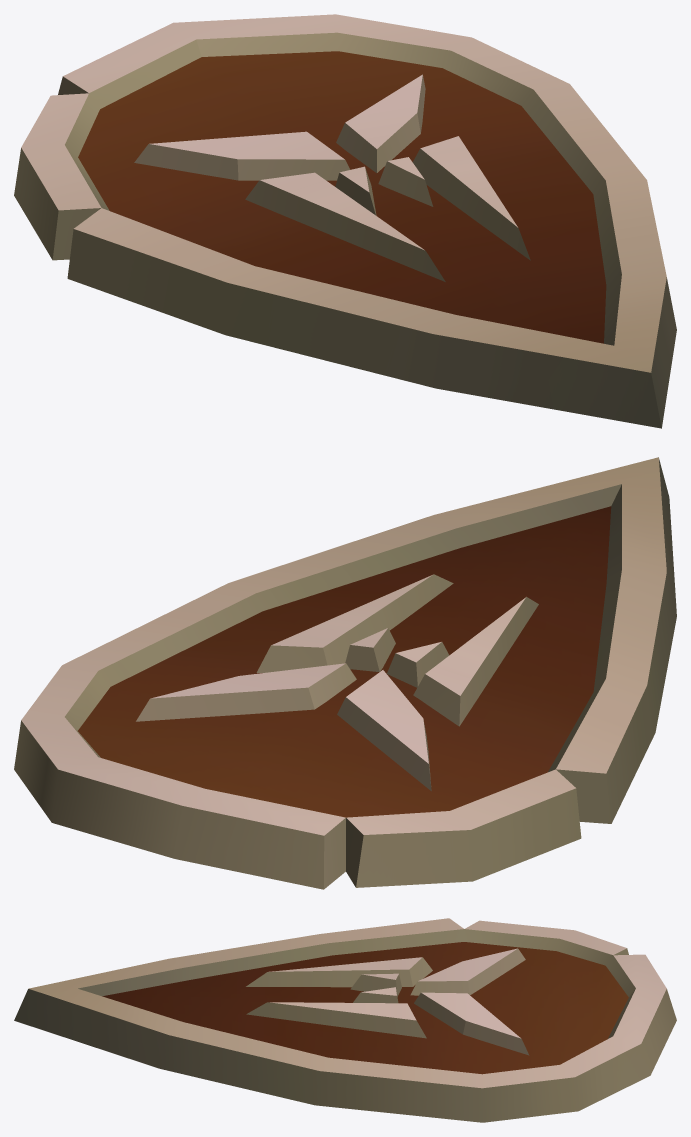
Rendered from shield-brown.fbx.
3 renders of one model, top to bottom at view 1: azimuth 30°, elevation 25°; view 2: azimuth 150°, elevation 25°; view 3: azimuth 270°, elevation 25°, orthographic. The views are drawn at different scales.
Visible parts, largest first — view 1: shield05_brown; view 2: shield05_brown; view 3: shield05_brown.
Boxes of the visible parts, bbox=[...] form: shield05_brown: bbox=[14, 14, 676, 428]; shield05_brown: bbox=[14, 457, 676, 889]; shield05_brown: bbox=[14, 918, 676, 1122].
Size of the model in its own units: 26.57 by 3.79 by 42.88.
